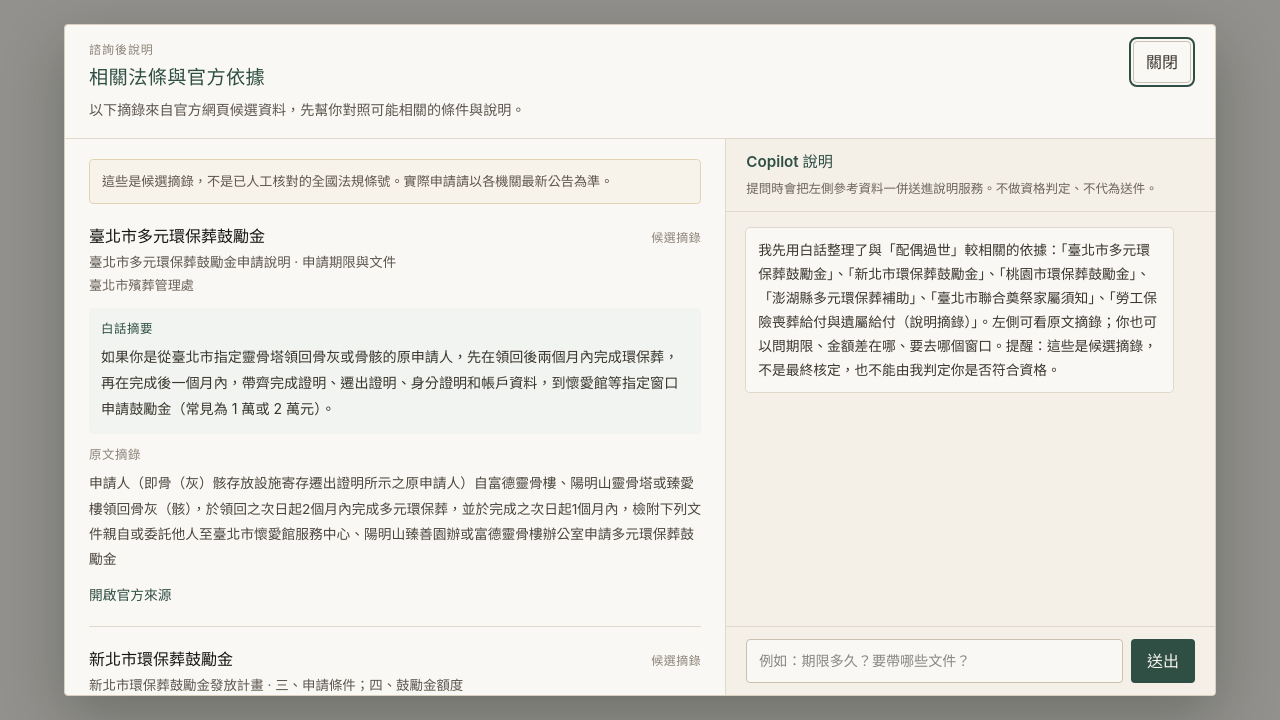
Scenario: post-consult panels › shows related provision excerpts and answers via grounded LLM
Expected: the heading "相關法條與官方依據" is shown, [89,65,265,89]
Expected: the heading "新北市環保葬鼓勵金" is shown, [89,647,233,671]
Type "金額大概多少？" into the field named "向說明助理提問" at (935, 661), box [746,639,1123,683]
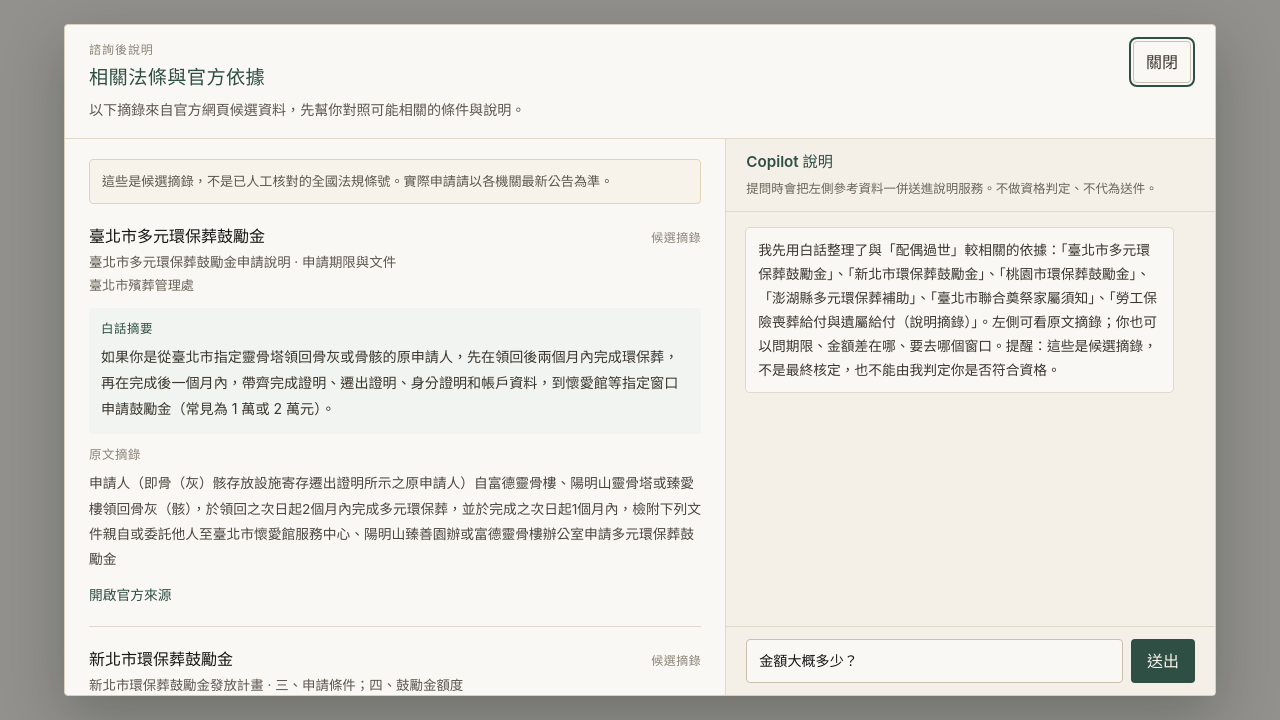
Submit the form named "向說明助理提問", box [726,626,1215,695]
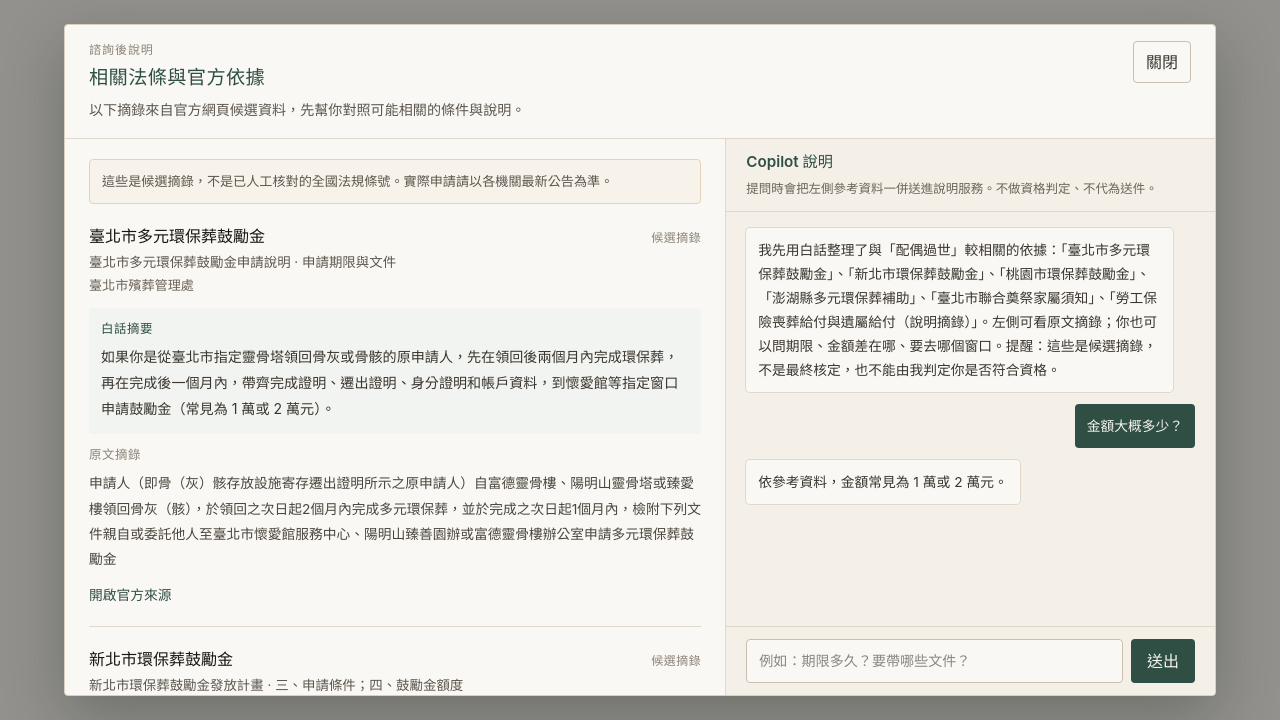
Now the text "依參考資料，金額常見為 1 萬或 2 萬元。" is shown, box [758,474,1008,490]
Now the text "金額大概多少？" is shown, box [1075,404,1195,448]
